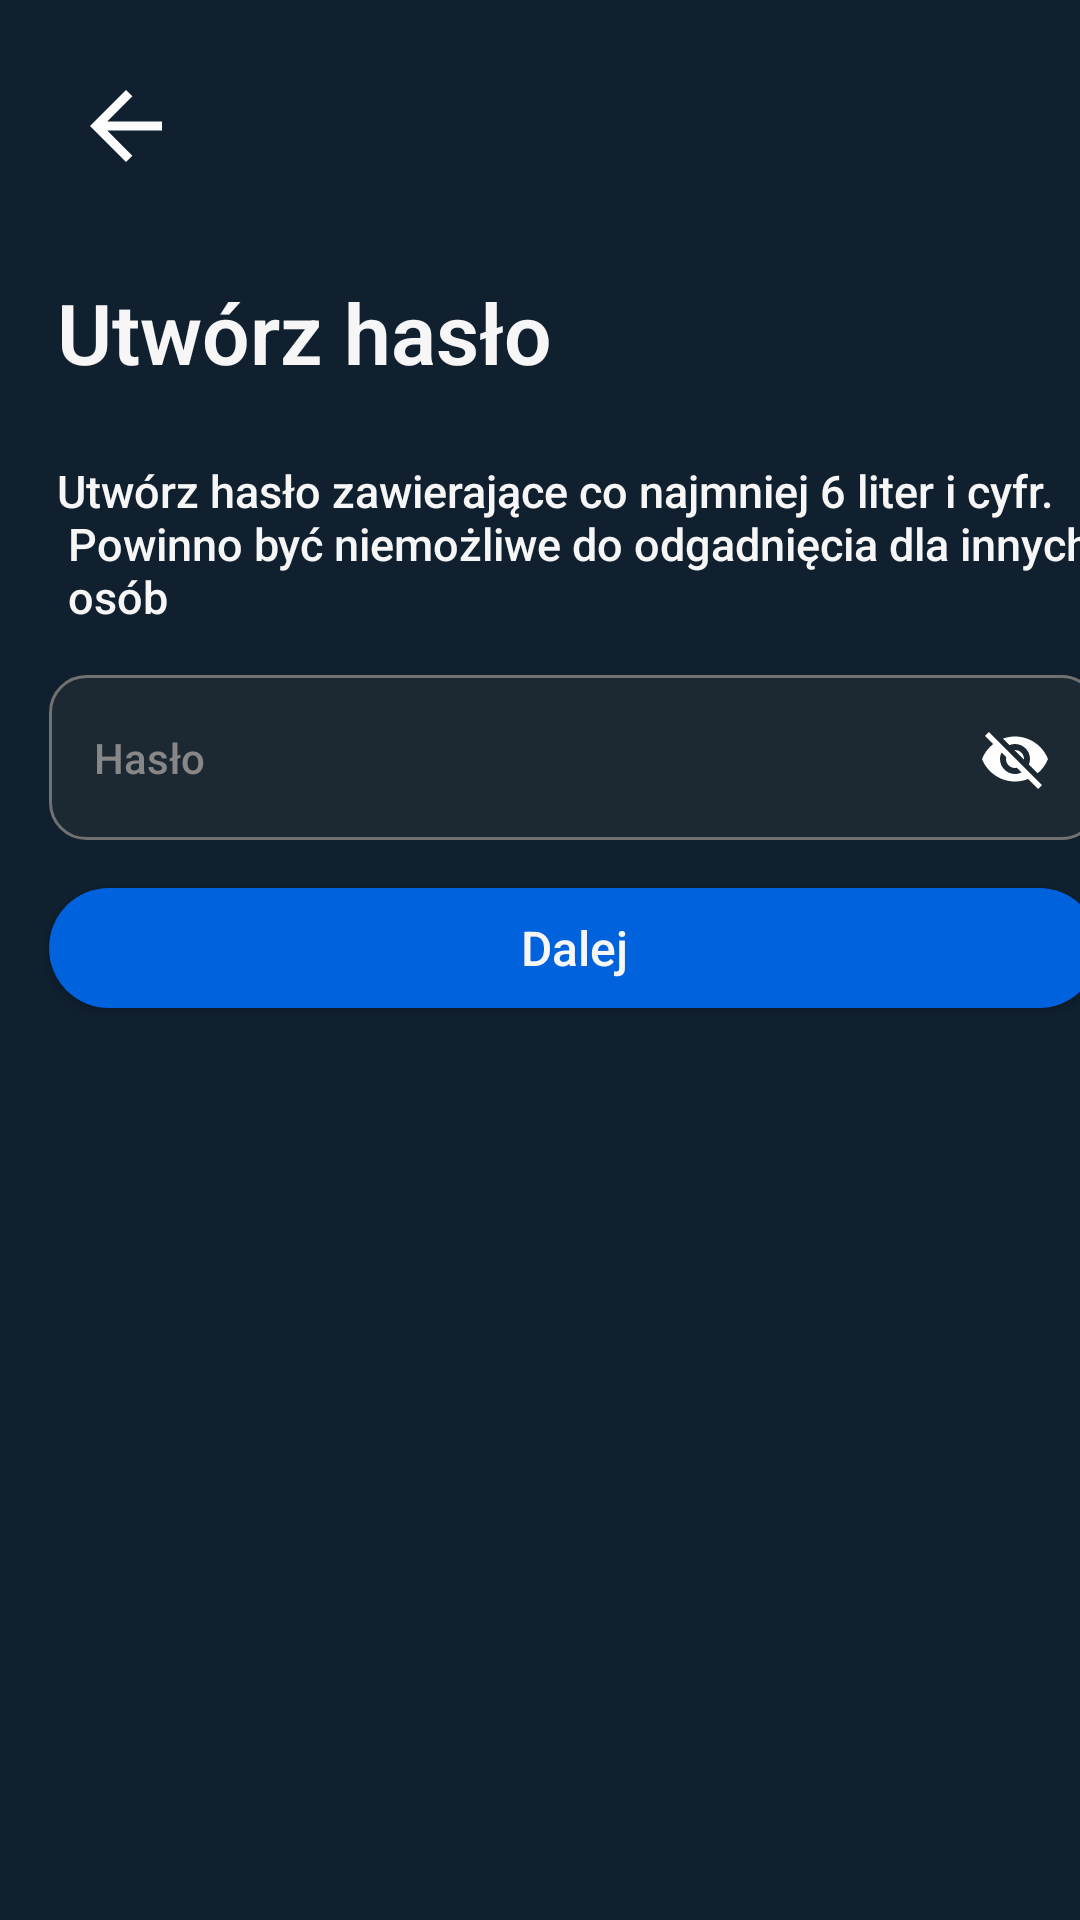

Locate icon controls on the screen. Image size 1080*1920, boxes as (x1, y1, x2, y2).
arrow back: (90, 90, 162, 162)
visibility off: (982, 732, 1048, 789)
